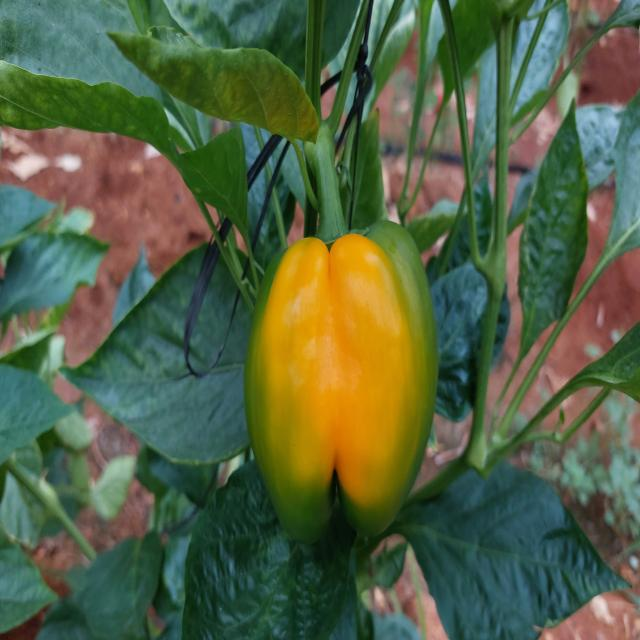GreenishYellow--Can-be-Harvested: (237, 192, 444, 568)
